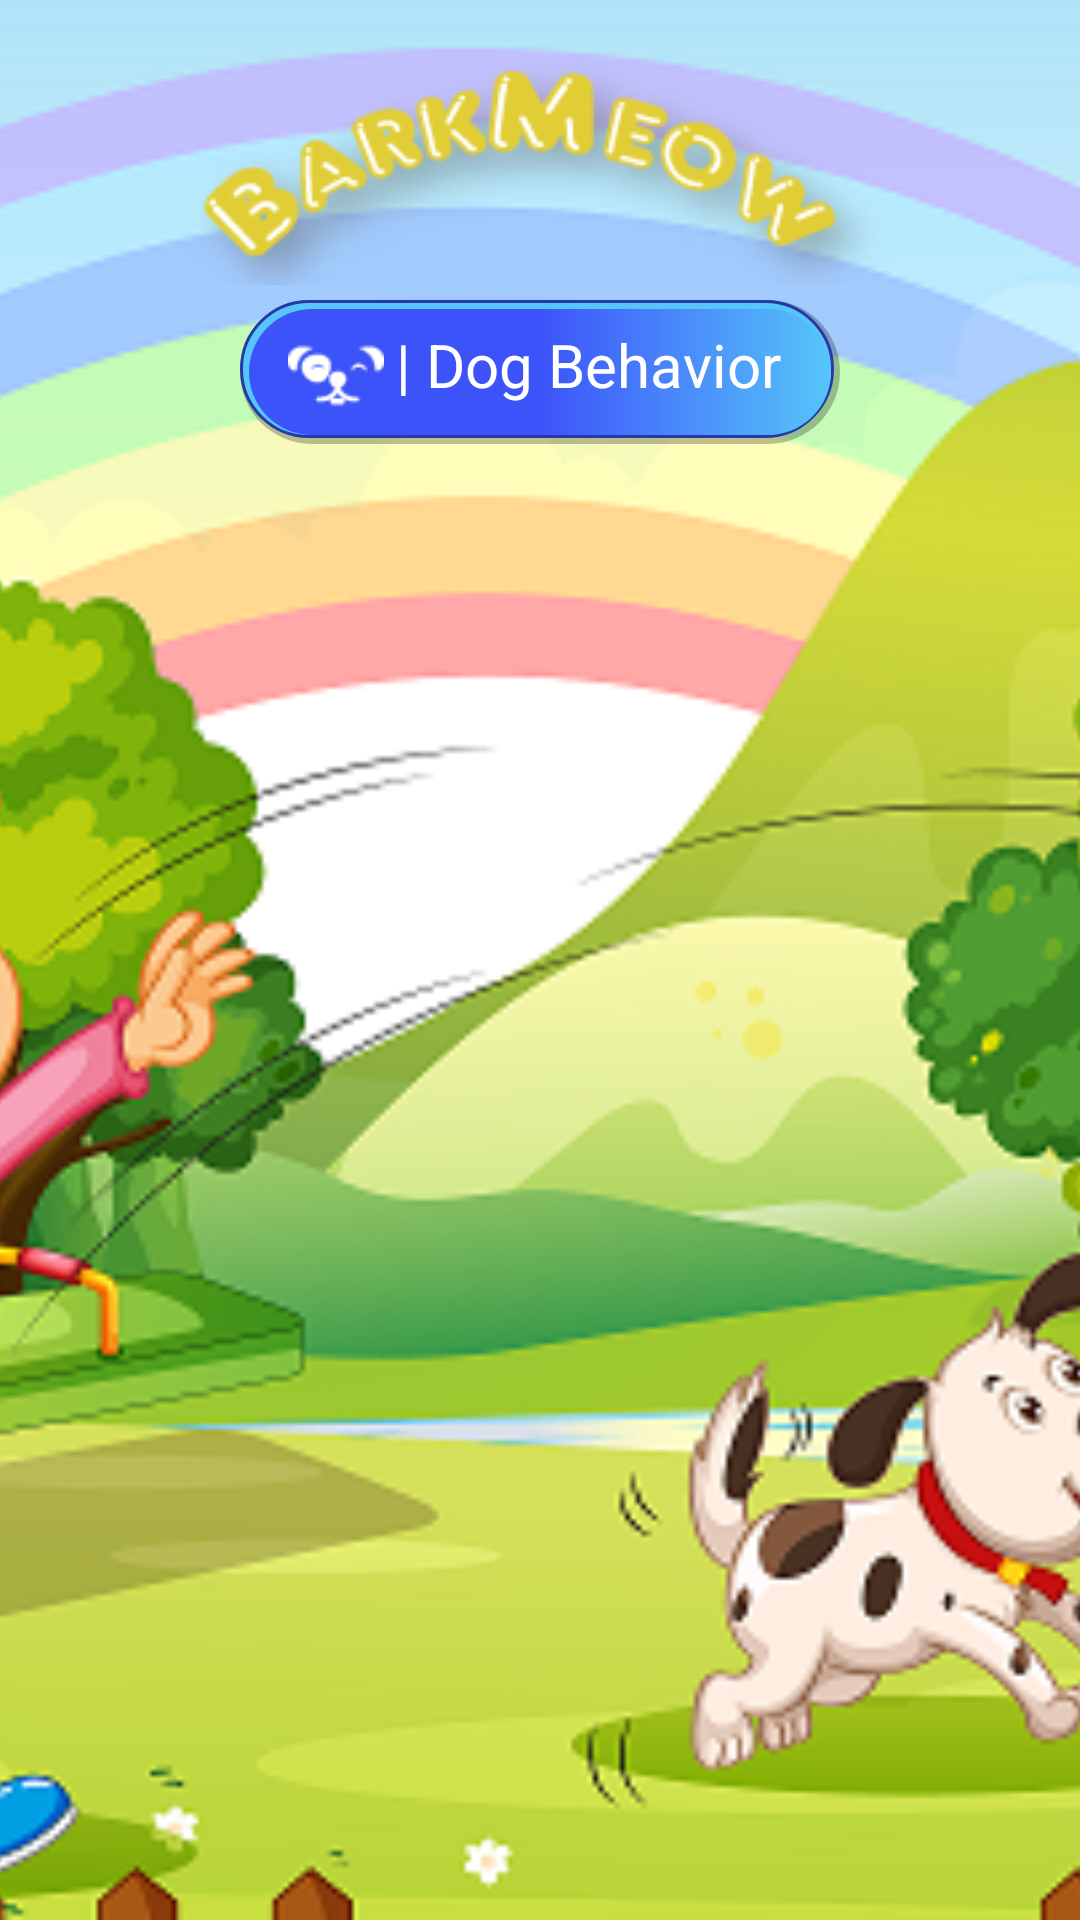

Icon bounding boxes for this 1080*1920 phone screenshot, format (x1, y1, x2, y2):
dogface: (288, 345, 384, 406)
